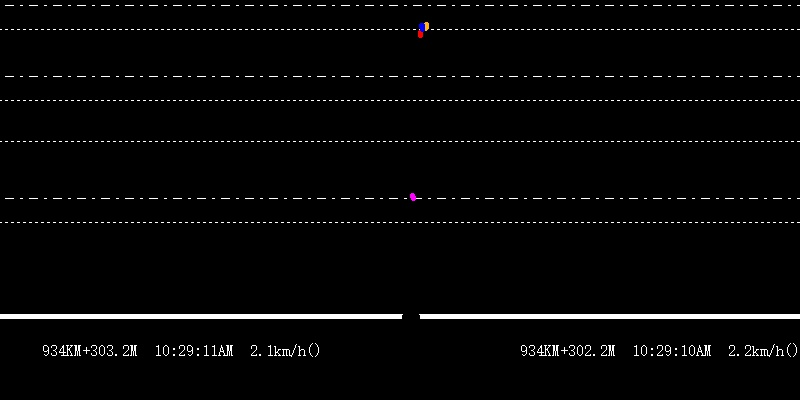face_s: (416, 17, 429, 39)
